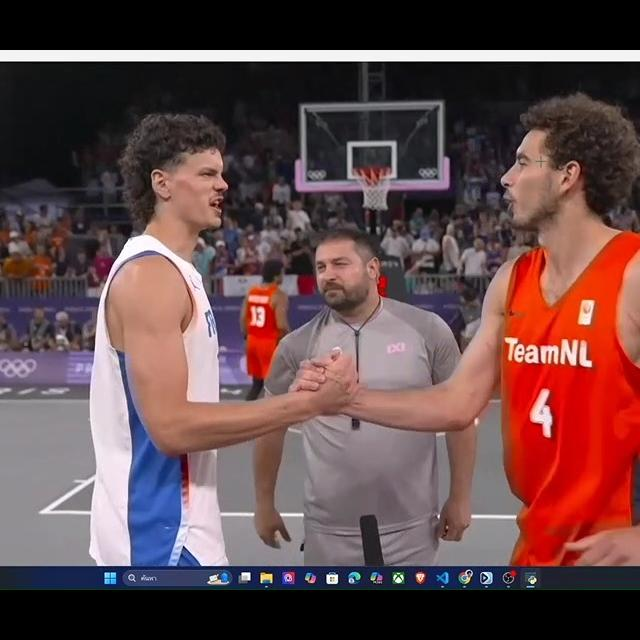hoop: (350, 164, 396, 212)
